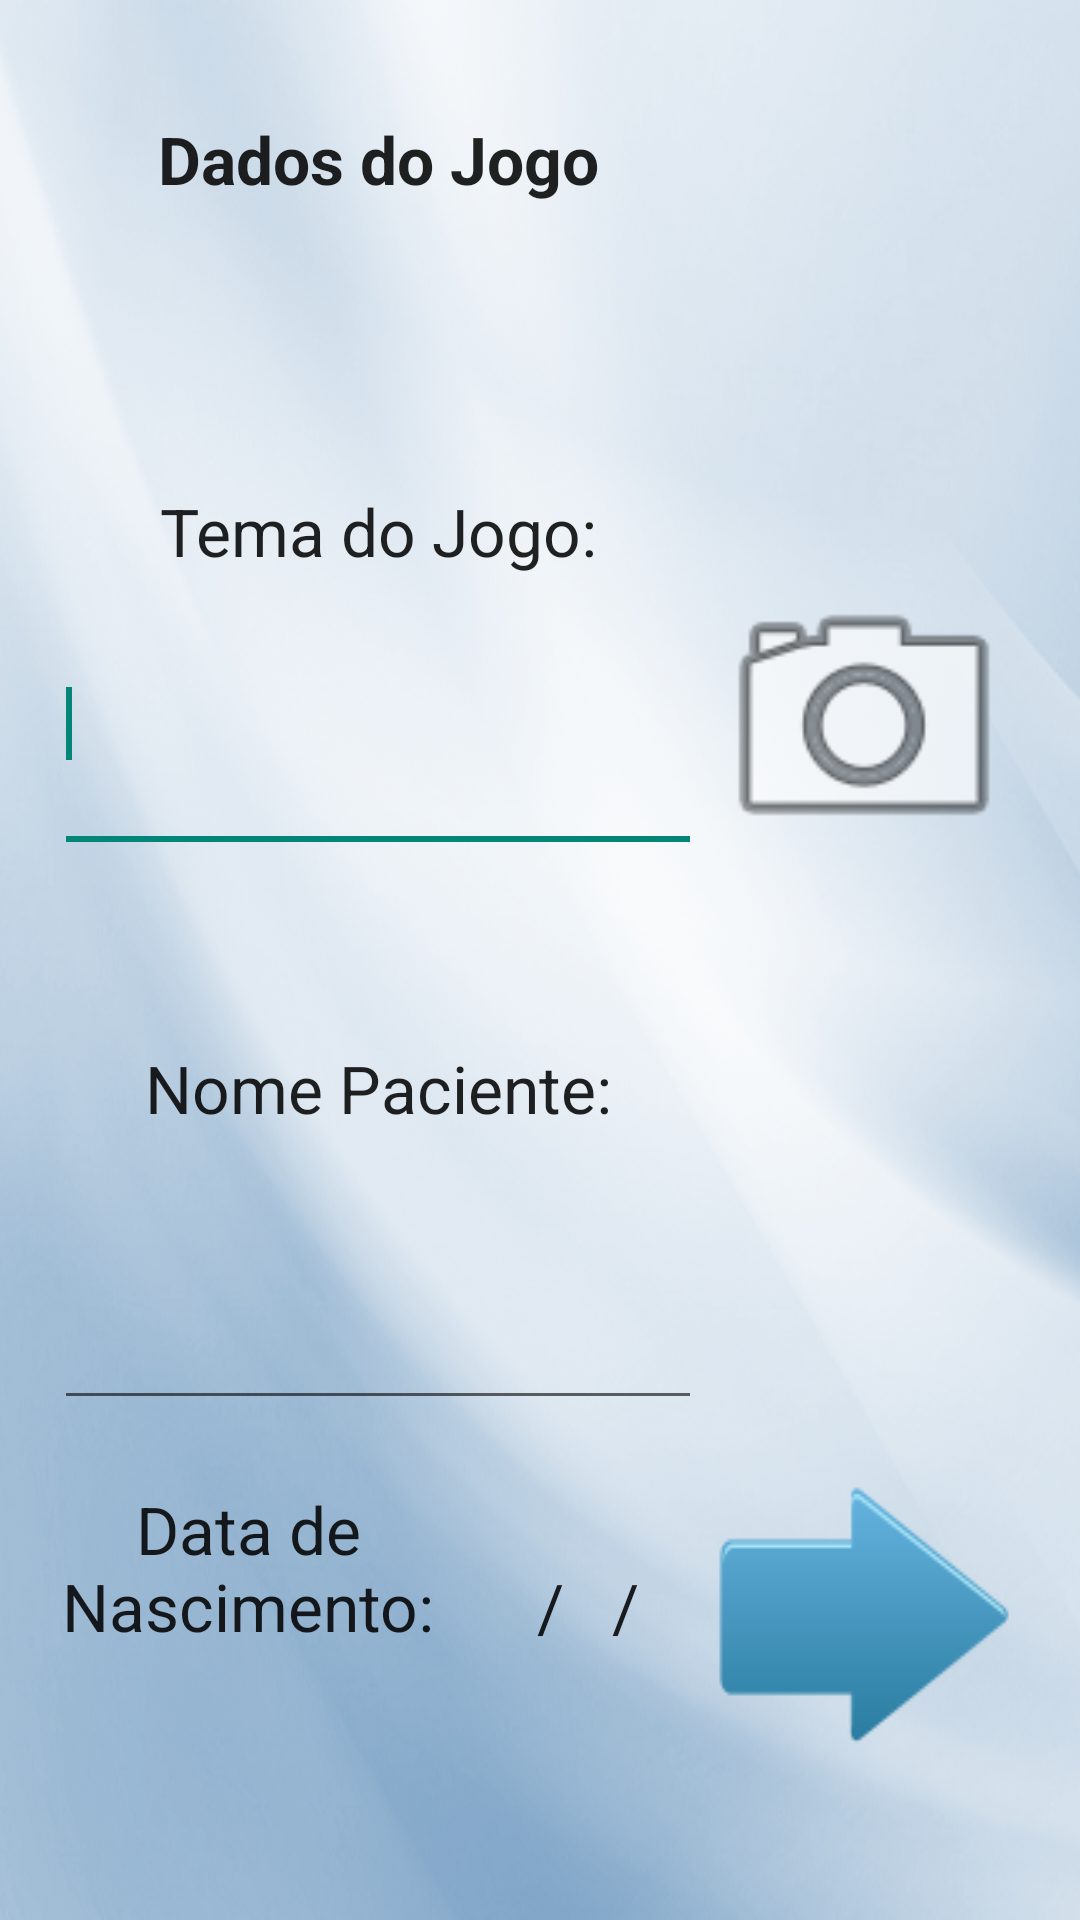

Icons on this 1080px×1920px Android screen, each with its box as (x1, y1, x2, y2):
seta direita: (702, 1487, 1009, 1824)
